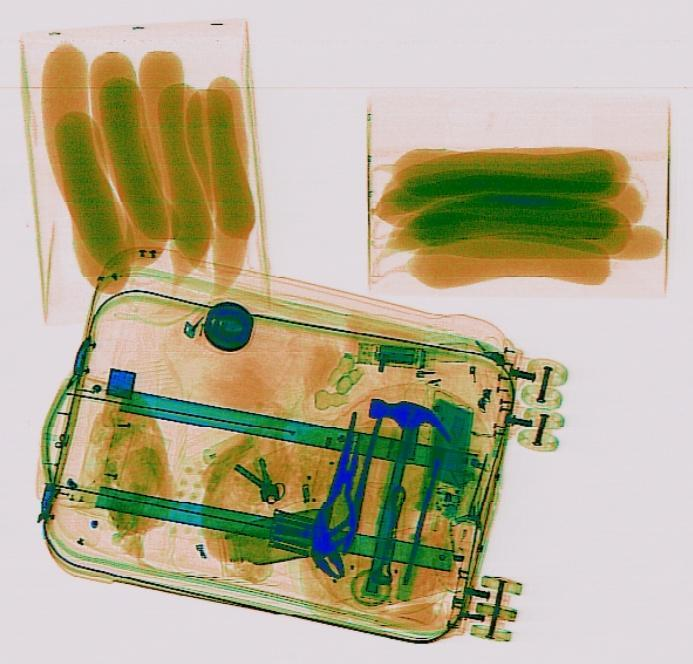plier: (310, 411, 384, 580), (311, 429, 362, 557)
